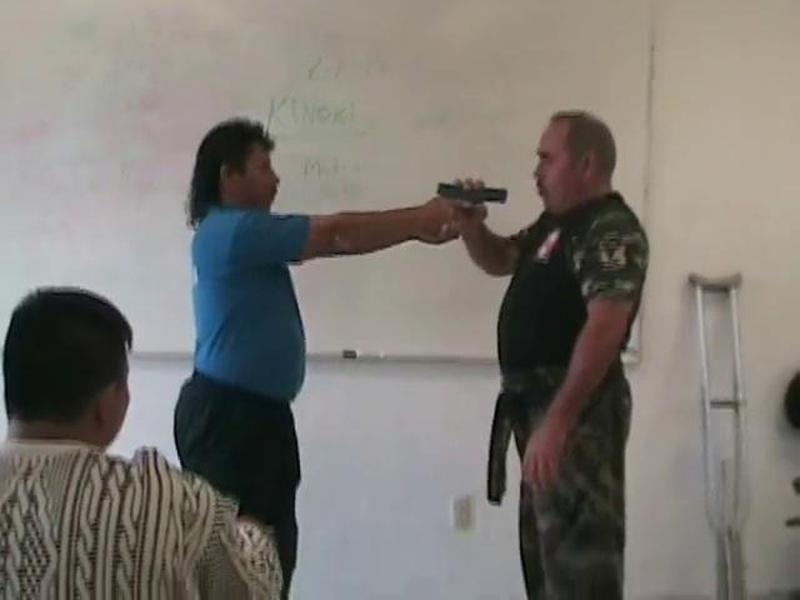Pistola: (419, 174, 517, 250)
